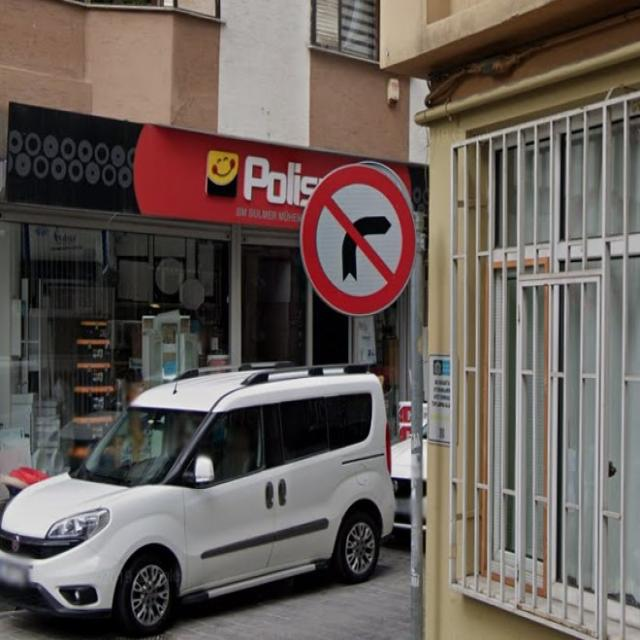sagadonulmez: (303, 164, 416, 319)
